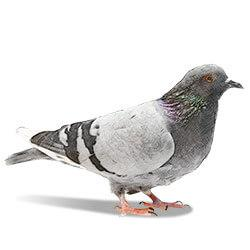Flying Rat: (8, 63, 240, 218)
